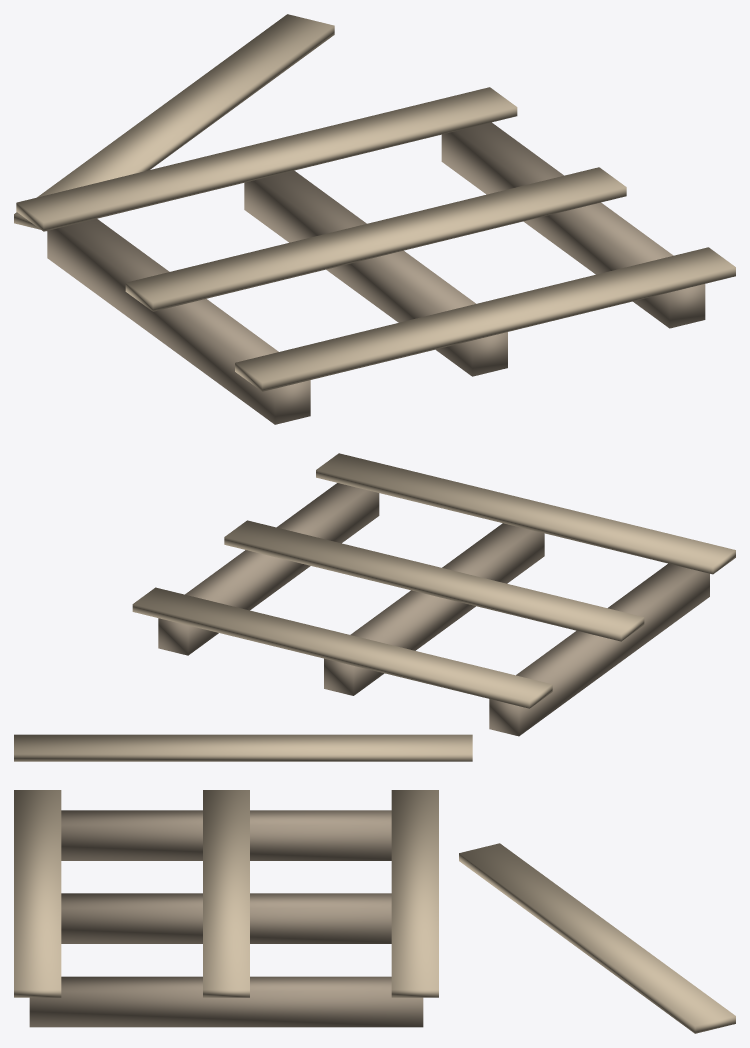
File: alley_pallet.glb
The picture shows the model from 3 angles, top to bottom: view 1: azimuth 30°, elevation 25°; view 2: azimuth 150°, elevation 25°; view 3: azimuth 270°, elevation 25°; orthographic projection. The views are drawn at different scales.
Visible parts, largest first — view 1: alley_pallet; view 2: alley_pallet; view 3: alley_pallet.
Part boxes in pixels (<box>): alley_pallet: <box>14,14,735,424</box>; alley_pallet: <box>14,453,735,761</box>; alley_pallet: <box>14,790,735,1033</box>.
Size of the model in its own units: 1.2 by 0.132 by 1.83.
